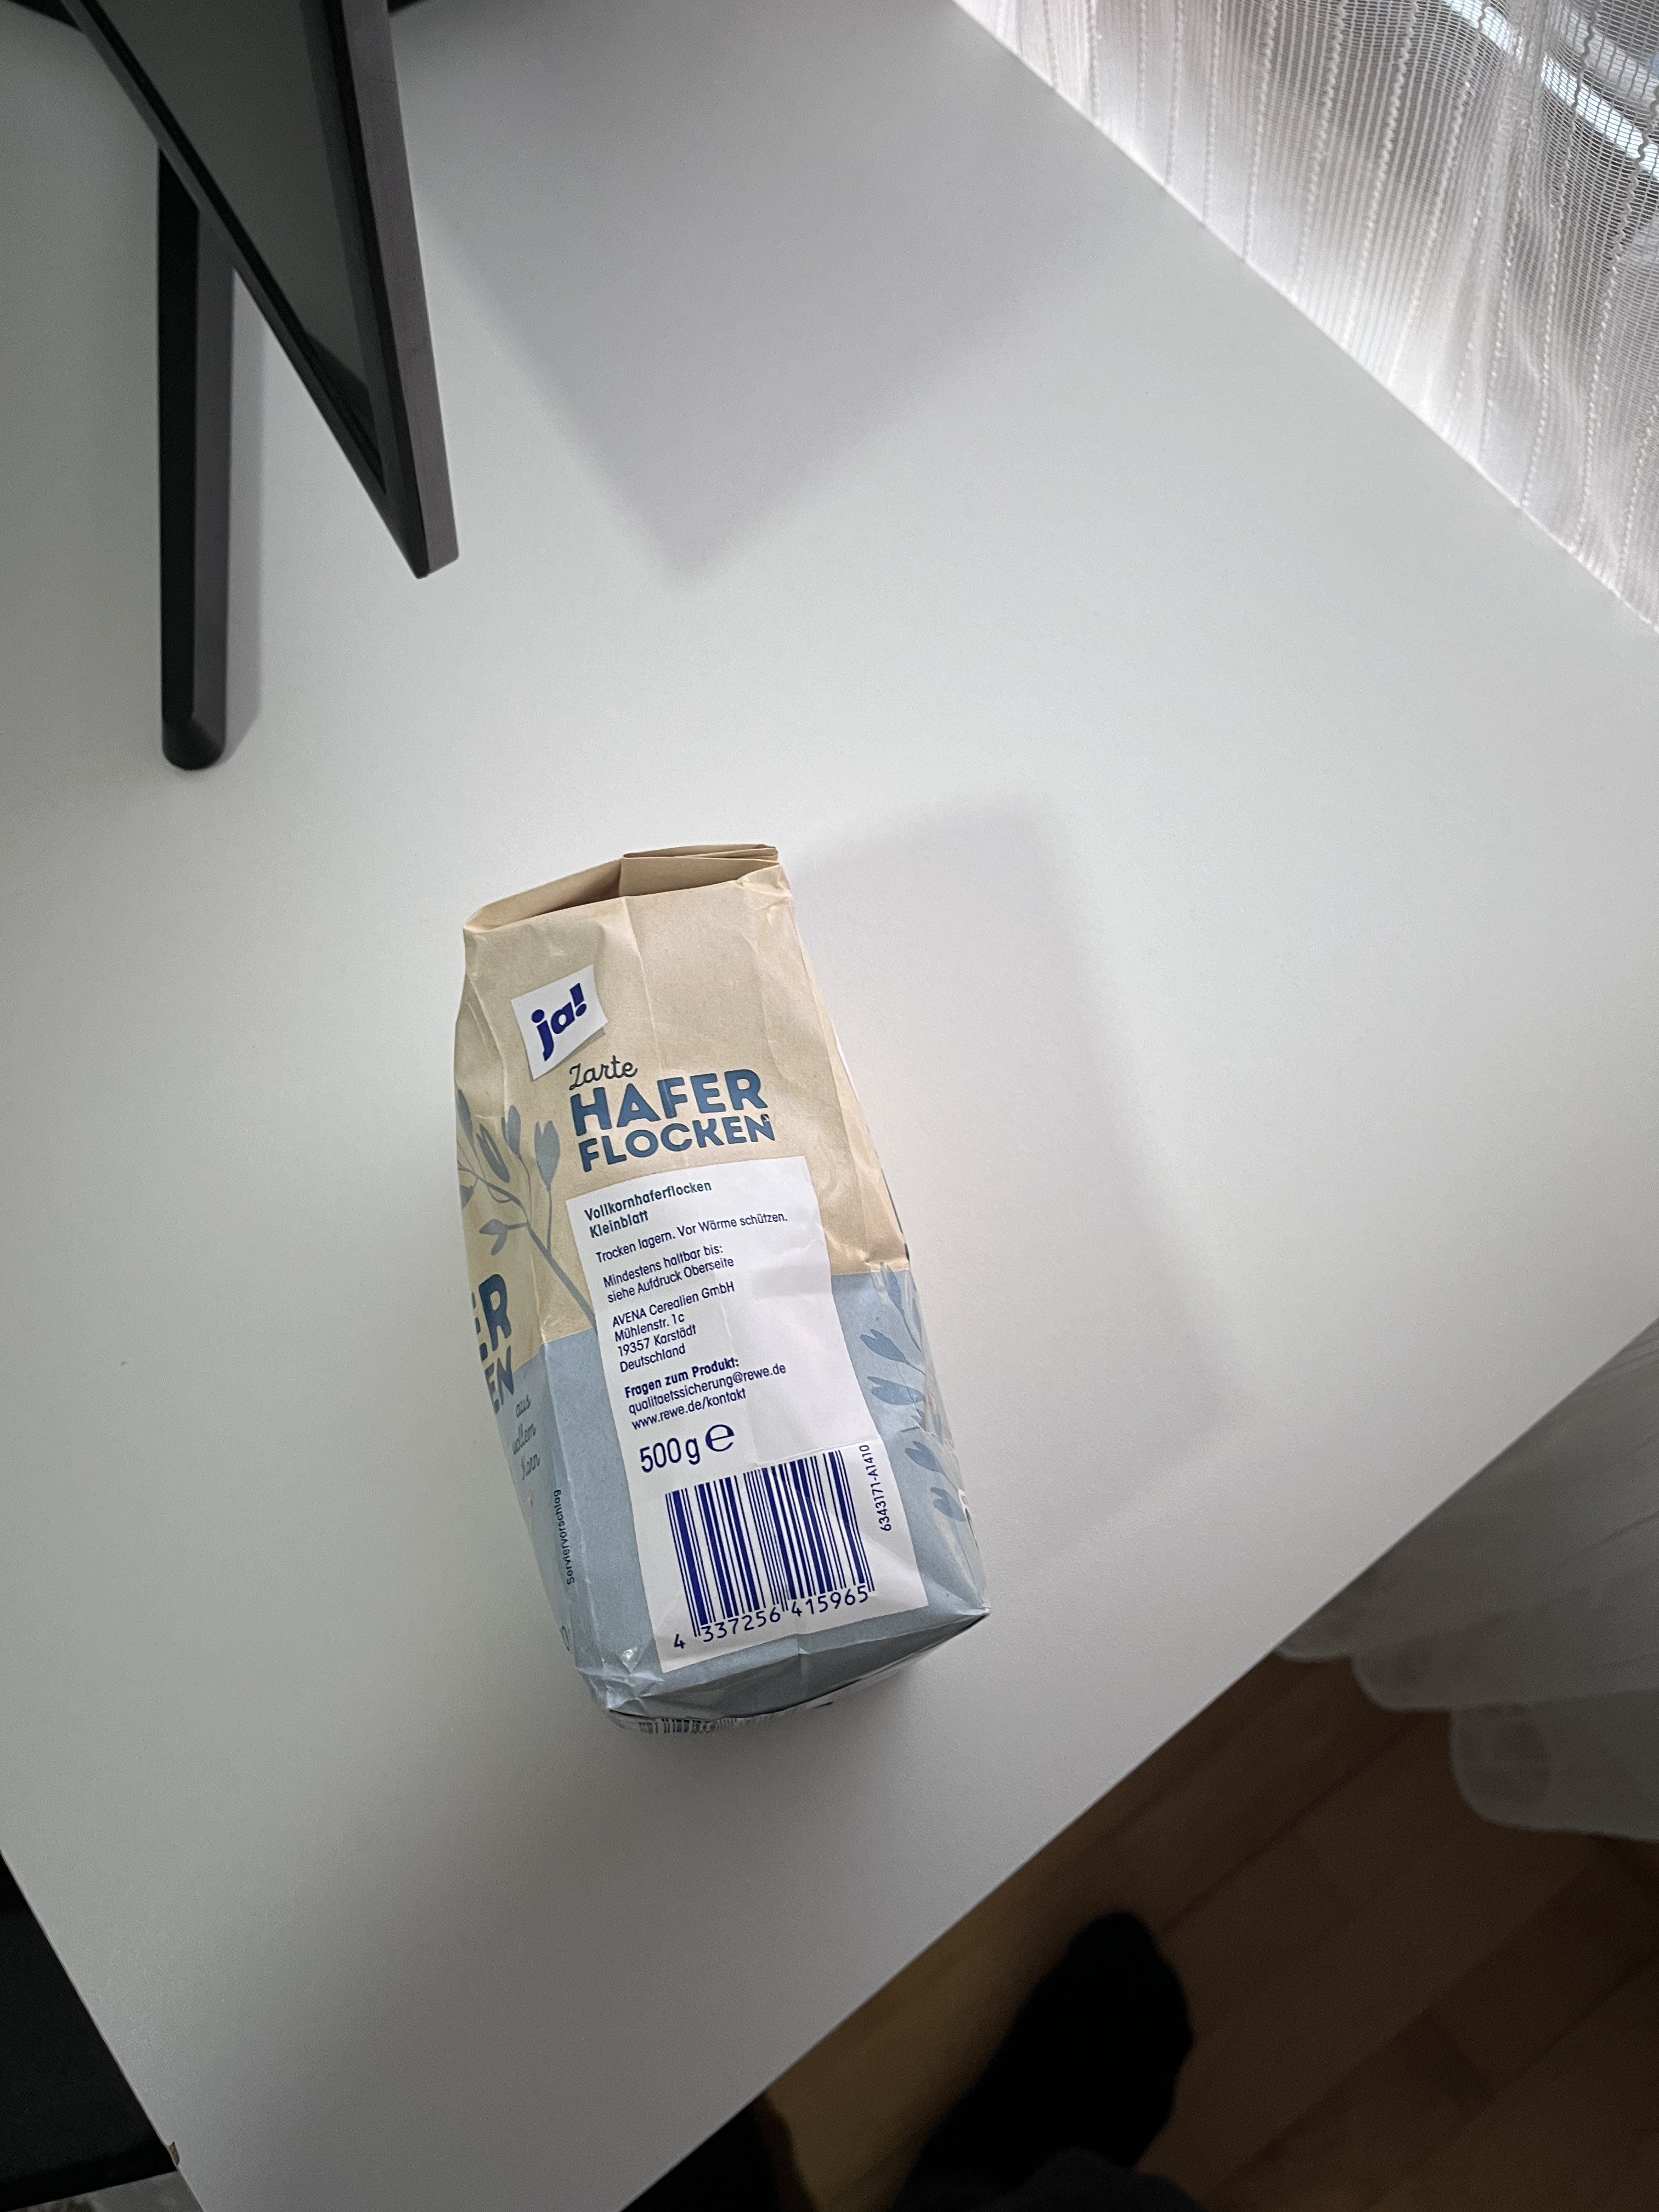haferflocken_ja: (450, 841, 997, 1735)
